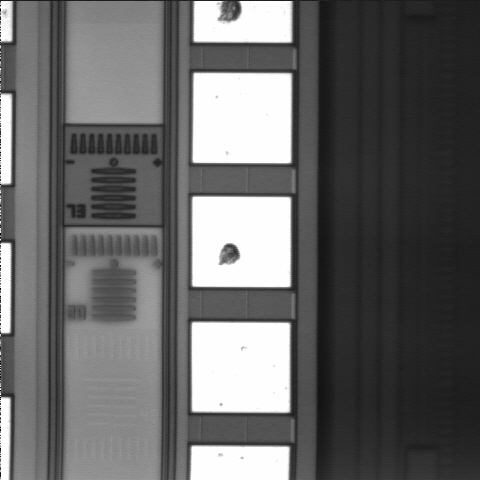pad: (192, 322, 290, 413), (192, 197, 291, 287), (193, 73, 291, 163)
